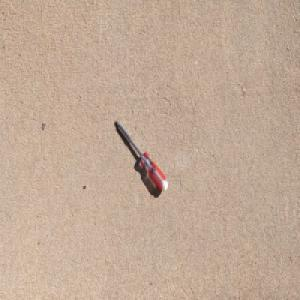Screwdriver: (114, 117, 169, 193)
